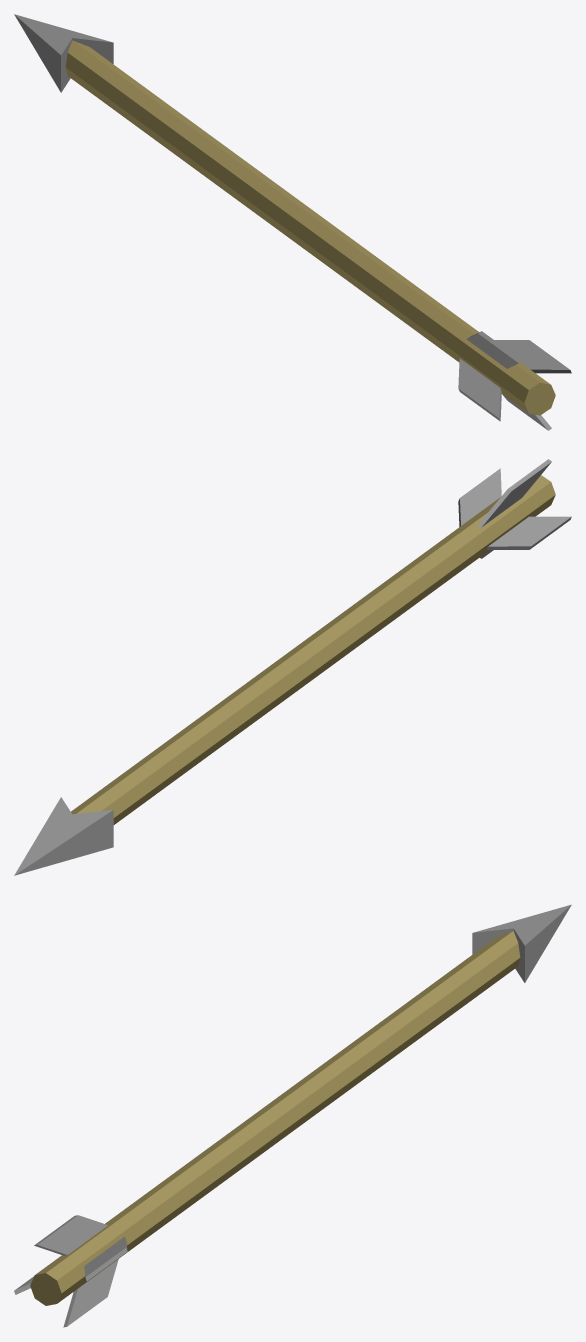
File: arrow_01.fbx
The picture shows the model from 3 angles, top to bottom: view 1: azimuth 30°, elevation 25°; view 2: azimuth 150°, elevation 25°; view 3: azimuth 330°, elevation 25°; orthographic projection.
Visible parts, largest first — view 1: arrow_01; view 2: arrow_01; view 3: arrow_01.
Boxes of the visible parts, box(x1,y1,x2,y2) form: arrow_01: box(14, 14, 571, 430); arrow_01: box(14, 459, 571, 875); arrow_01: box(14, 904, 571, 1327).
Size of the model in its own units: 8 by 8 by 100.
